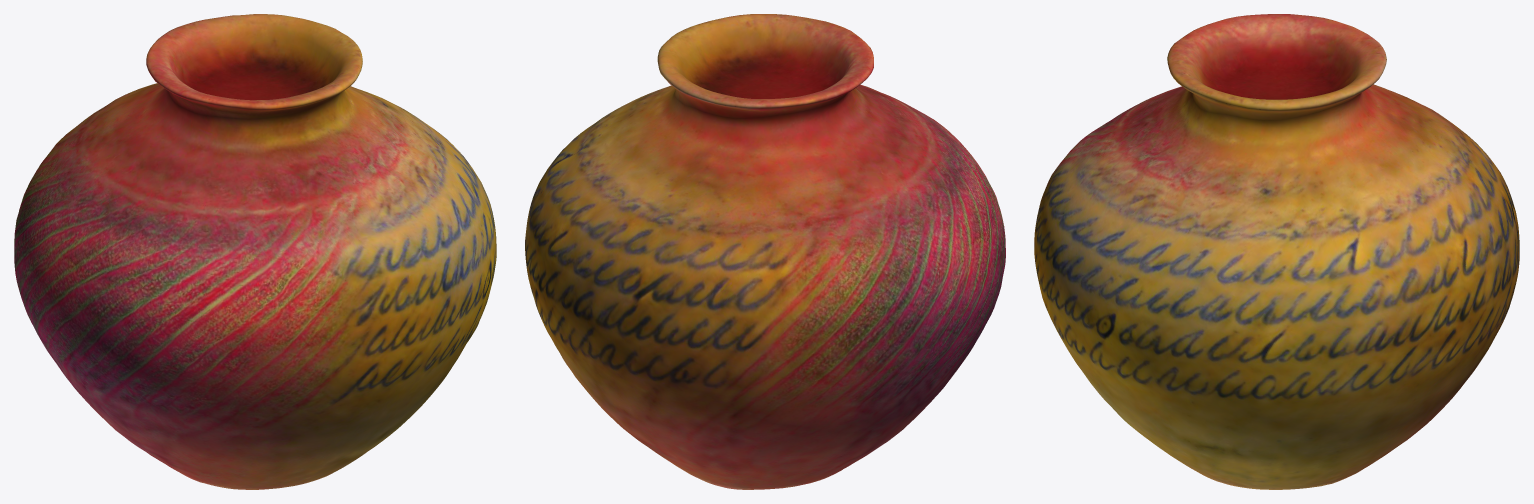
Rendered from bdb59f3b-5dde-4222-86b9-4e1de67417c5.glb.
3 renders of one model, left to right at view 1: azimuth 30°, elevation 25°; view 2: azimuth 150°, elevation 25°; view 3: azimuth 270°, elevation 25°, orthographic.
Parts seen in each view (by area): view 1: mesh; view 2: mesh; view 3: mesh.
Part boxes in pixels (x1,y1,x2,y2): mesh: (14,14,496,489); mesh: (525,14,1005,489); mesh: (1034,14,1519,489).
Size of the model in its own units: 0.9965 by 0.8962 by 0.9993.
1 material, 1 textured.
